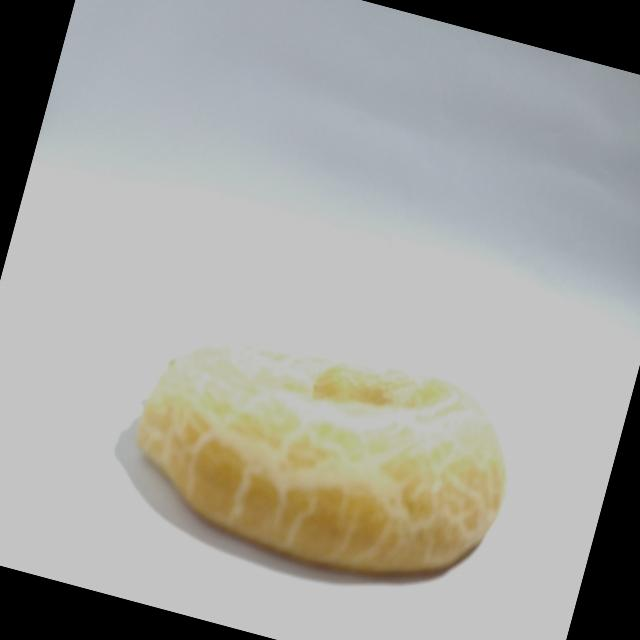Chipa: (98, 278, 542, 627)
